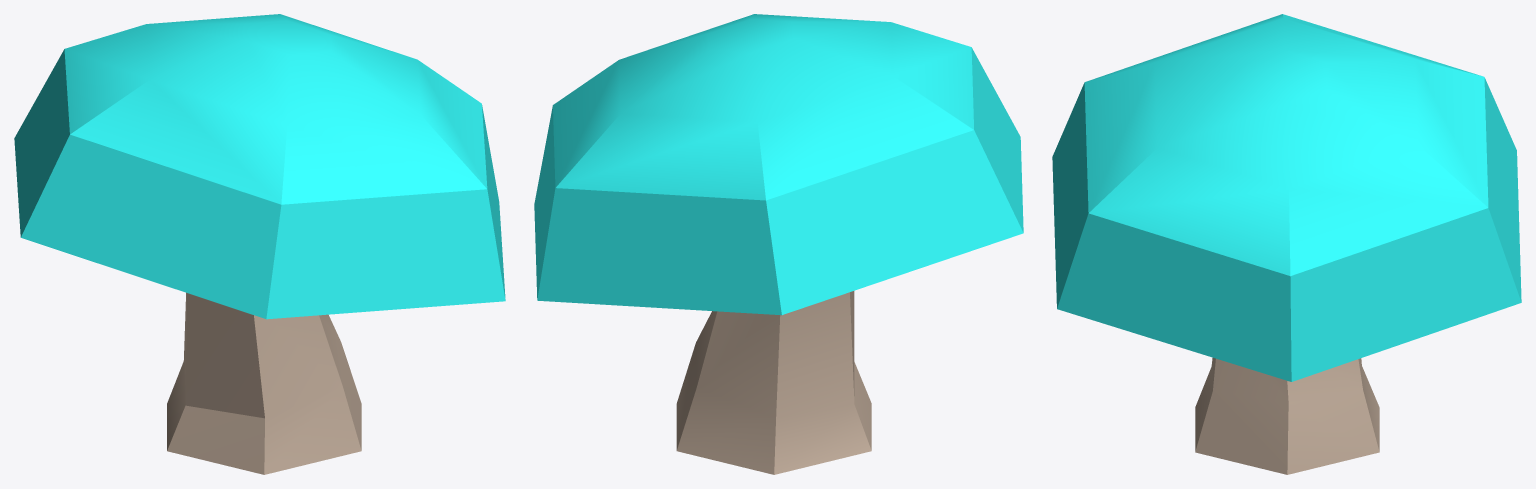
File: Mushroom_Blue_05.fbx
The picture shows the model from 3 angles, left to right: view 1: azimuth 30°, elevation 25°; view 2: azimuth 150°, elevation 25°; view 3: azimuth 270°, elevation 25°; orthographic projection. The views are drawn at different scales.
Parts seen in each view (by area): view 1: Mushroom_Blue_05; view 2: Mushroom_Blue_05; view 3: Mushroom_Blue_05.
Part boxes in pixels (x1,y1,x2,y2): Mushroom_Blue_05: (14,14,505,474); Mushroom_Blue_05: (534,14,1023,474); Mushroom_Blue_05: (1052,14,1521,474).
Bounding box in the file's own units: 10.91 × 8.44 × 9.68.
